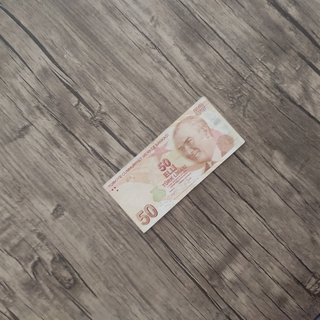50TLFront: (103, 95, 246, 233)
